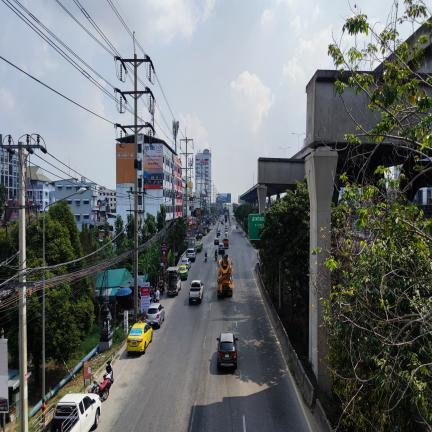car: (217, 333, 238, 369), (146, 303, 164, 327), (186, 248, 196, 262), (179, 265, 188, 280), (181, 258, 191, 270), (218, 243, 225, 255), (214, 238, 219, 245), (236, 224, 239, 229), (232, 216, 234, 219)
human: (156, 289, 159, 302), (155, 283, 157, 292)
motorbike: (89, 360, 114, 400), (215, 252, 218, 260), (205, 251, 207, 262), (205, 256, 207, 262)
pickup: (50, 393, 101, 432), (189, 280, 203, 303), (223, 238, 229, 249)
taxi: (126, 321, 153, 354)
truck: (217, 255, 233, 296), (166, 266, 181, 295), (195, 234, 203, 253), (188, 237, 196, 249), (196, 240, 203, 253), (217, 228, 220, 237), (225, 214, 228, 222)
